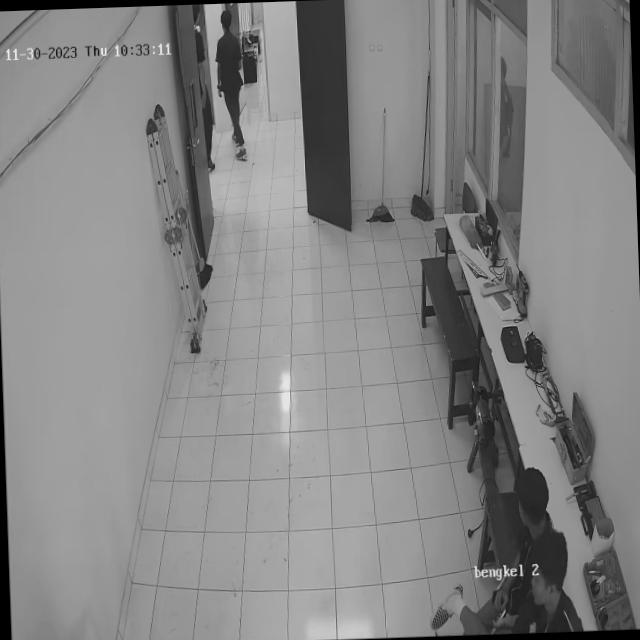person: (216, 11, 254, 160)
